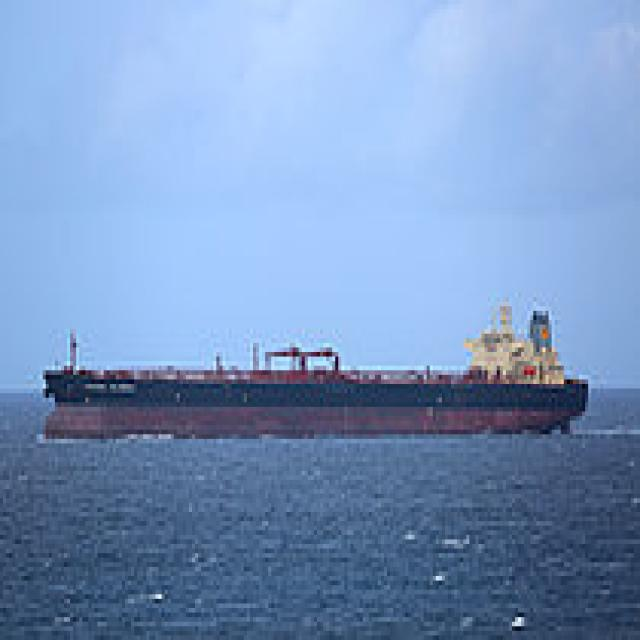Tanker: (34, 283, 591, 439)
